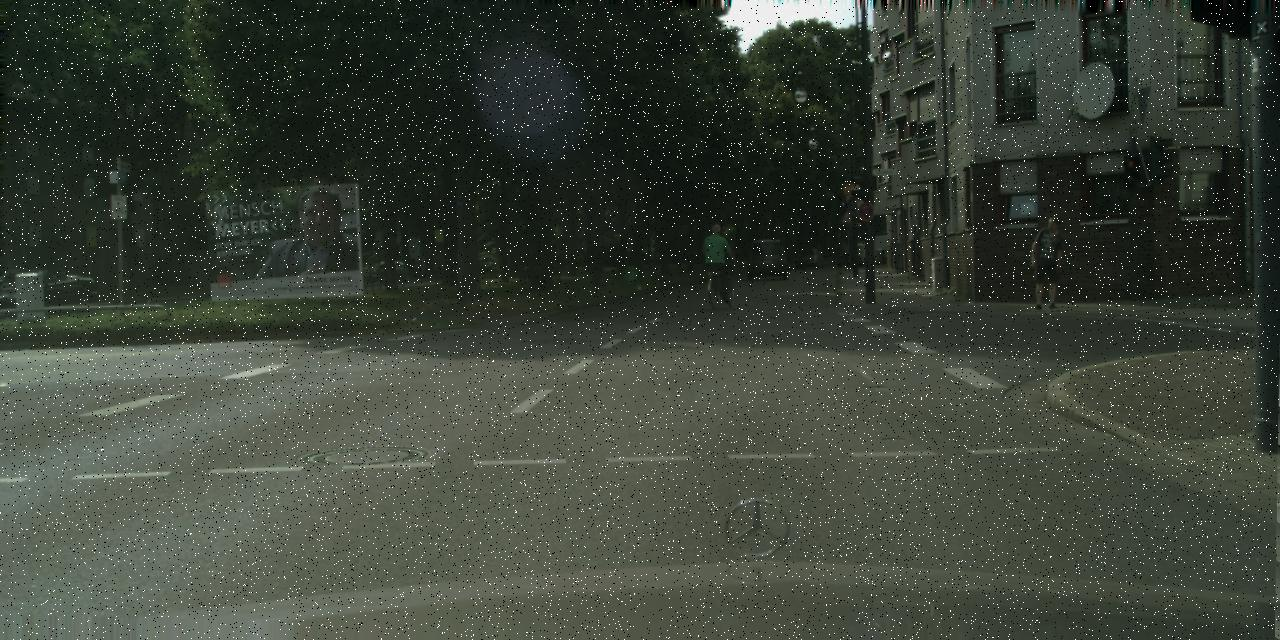ped: (1030, 215, 1068, 308), (704, 224, 732, 295)
